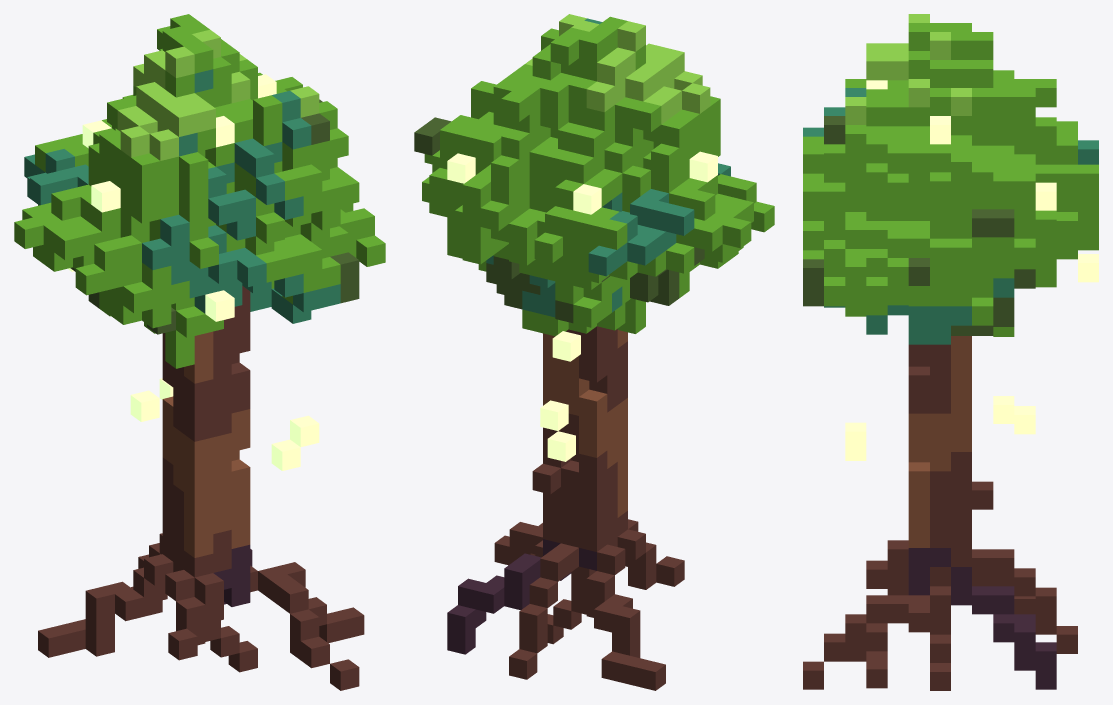
File: Tree.gltf
3 renders of one model, left to right at view 1: azimuth 30°, elevation 25°; view 2: azimuth 150°, elevation 25°; view 3: azimuth 270°, elevation 25°, orthographic. The views are drawn at different scales.
Size of the model in its own units: 17 by 33 by 14.
2 materials, 2 textured.
